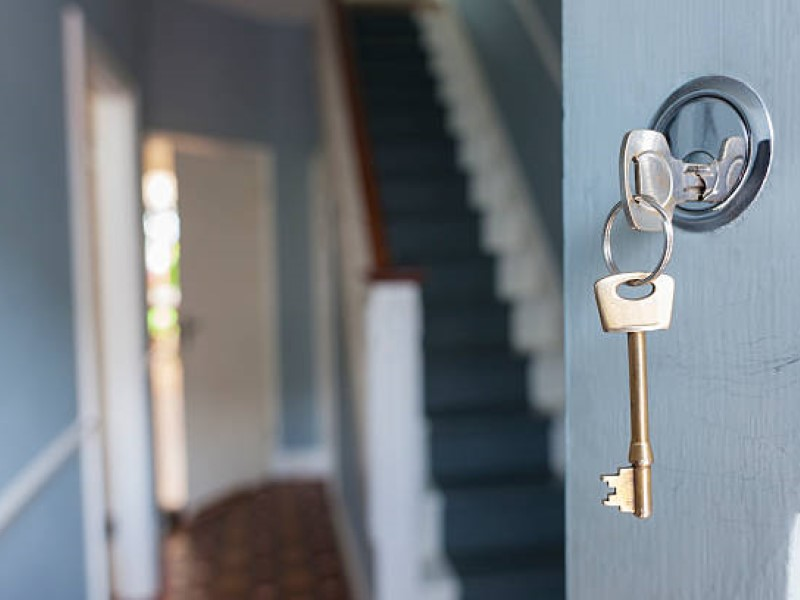key: (589, 266, 679, 526)
